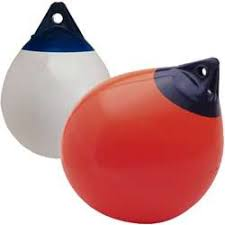buoy: (61, 69, 224, 224)
